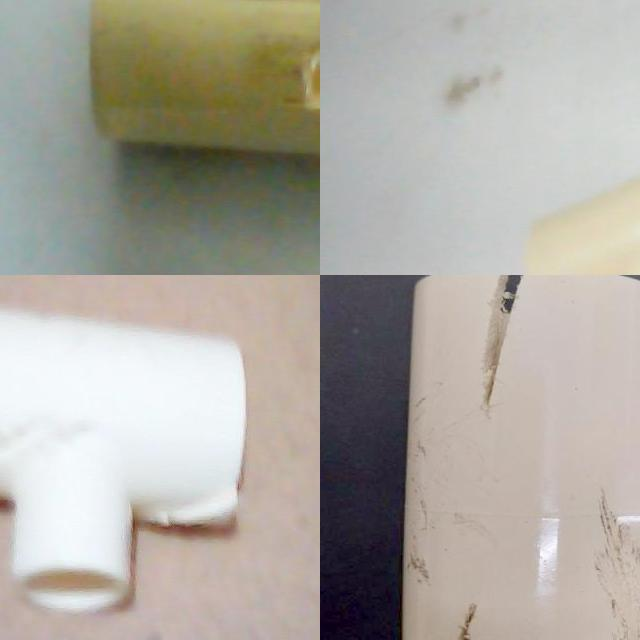Defective: (568, 482, 640, 640), (568, 482, 640, 640), (473, 275, 535, 435), (473, 275, 535, 435), (0, 352, 30, 511), (436, 576, 480, 640), (436, 576, 480, 640), (629, 275, 640, 448)
T Joint: (400, 275, 640, 640), (0, 307, 249, 606)
